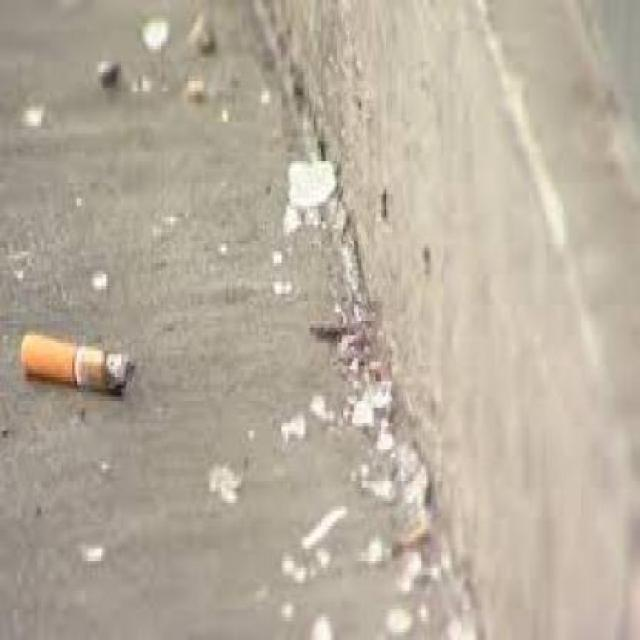cigarette: (25, 347, 141, 396)
